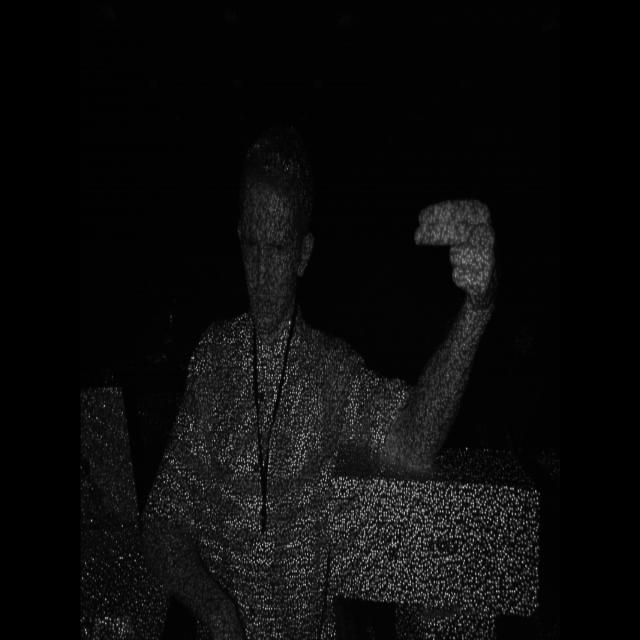H: (408, 184, 504, 310)
